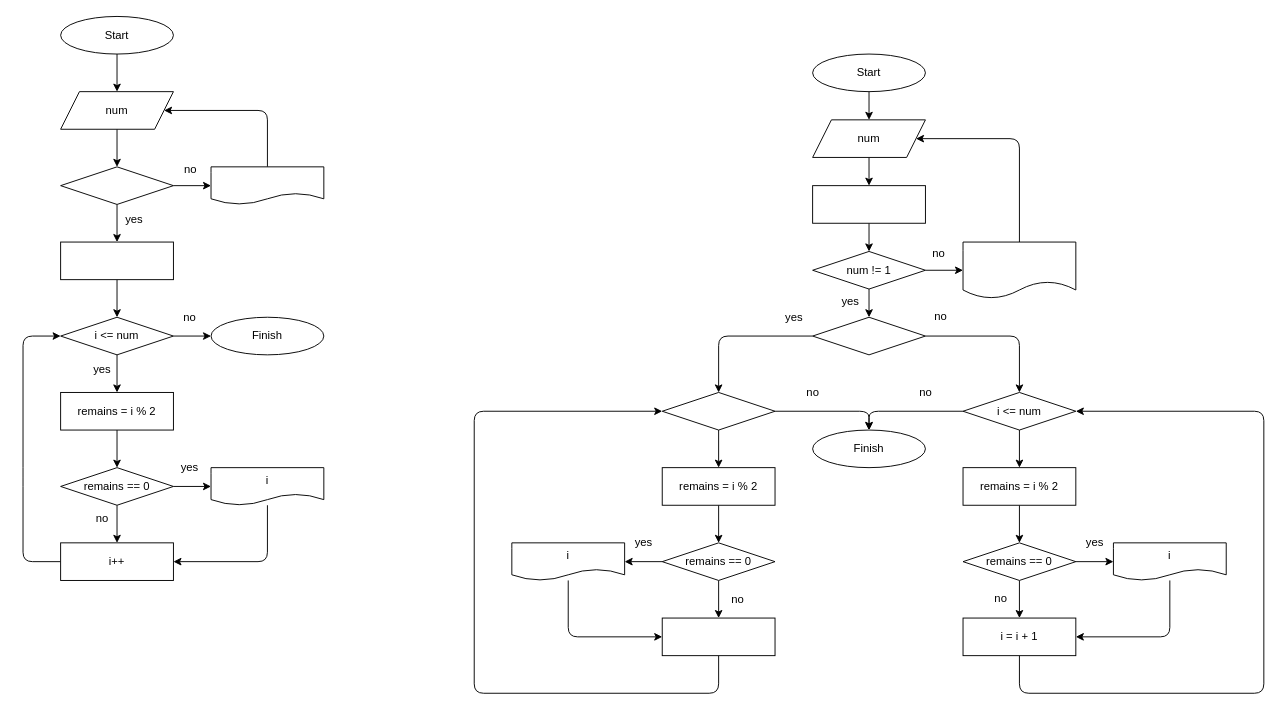
Some shapes in this 1288 by 717 pixel diagram are drawn without their labels. Each missing label, with the centre of its shape:
"Error!" goes at point (267, 185).
"i = 1" goes at point (868, 204).
"i = i - 1" goes at point (718, 636).
"i =1" goes at point (116, 260).
"i >= num" goes at point (718, 411).
"num < 1" goes at point (868, 335).
"num > 1" goes at point (116, 185).
"Нет значений!" goes at point (1019, 269).
